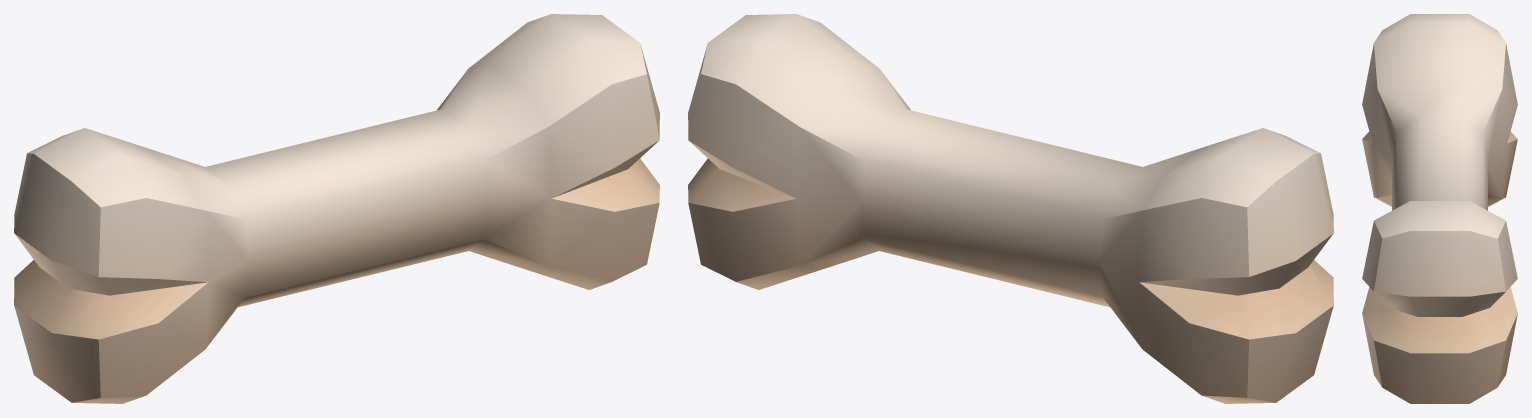
File: bone-a.glb
3 renders of one model, left to right at view 1: azimuth 30°, elevation 25°; view 2: azimuth 150°, elevation 25°; view 3: azimuth 270°, elevation 25°, orthographic. The views are drawn at different scales.
Parts seen in each view (by area): view 1: bone_A; view 2: bone_A; view 3: bone_A.
Part boxes in pixels (x1,y1,x2,y2): bone_A: [14, 14, 659, 403]; bone_A: [688, 14, 1333, 403]; bone_A: [1362, 14, 1517, 403].
Size of the model in its own units: 0.707 by 0.2761 by 0.2007.
Materials: 1 (1 with a texture image).
